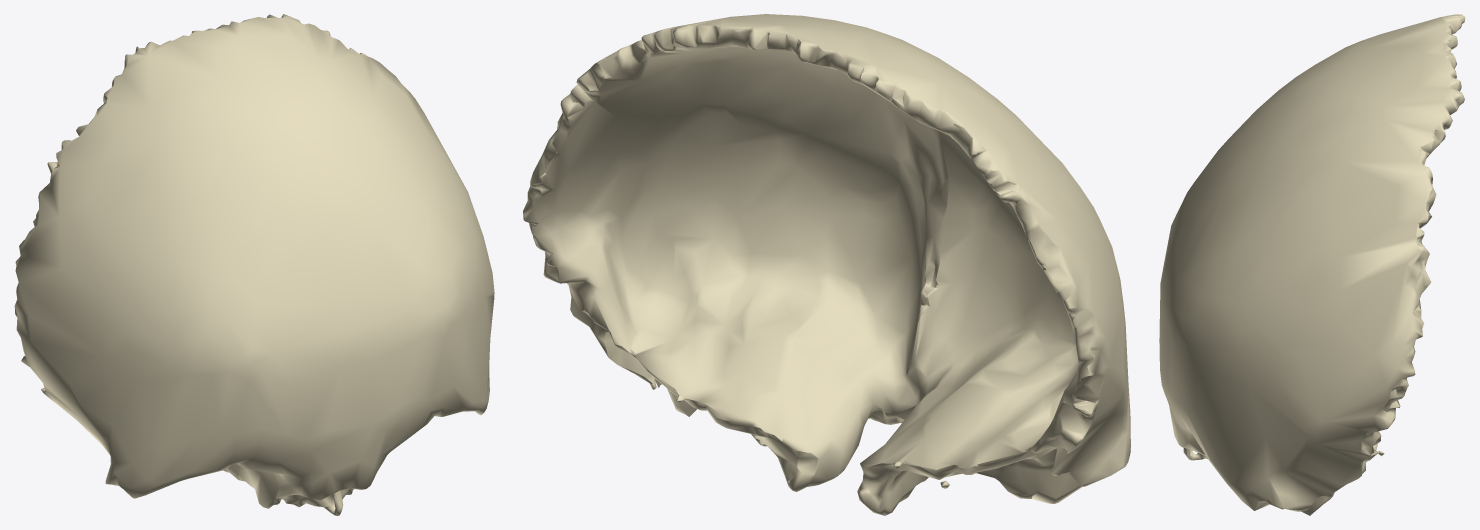
Rendered from frontal_bone.glb.
3 renders of one model, left to right at view 1: azimuth 30°, elevation 25°; view 2: azimuth 150°, elevation 25°; view 3: azimuth 270°, elevation 25°, orthographic. The views are drawn at different scales.
Visible parts, largest first — view 1: frontal bone; view 2: frontal bone; view 3: frontal bone.
Part boxes in pixels (x1,y1,x2,y2): frontal bone: (14, 14, 494, 515); frontal bone: (523, 14, 1130, 515); frontal bone: (1159, 14, 1465, 515).
Size of the model in its own units: 0.1253 by 0.109 by 0.0707.
